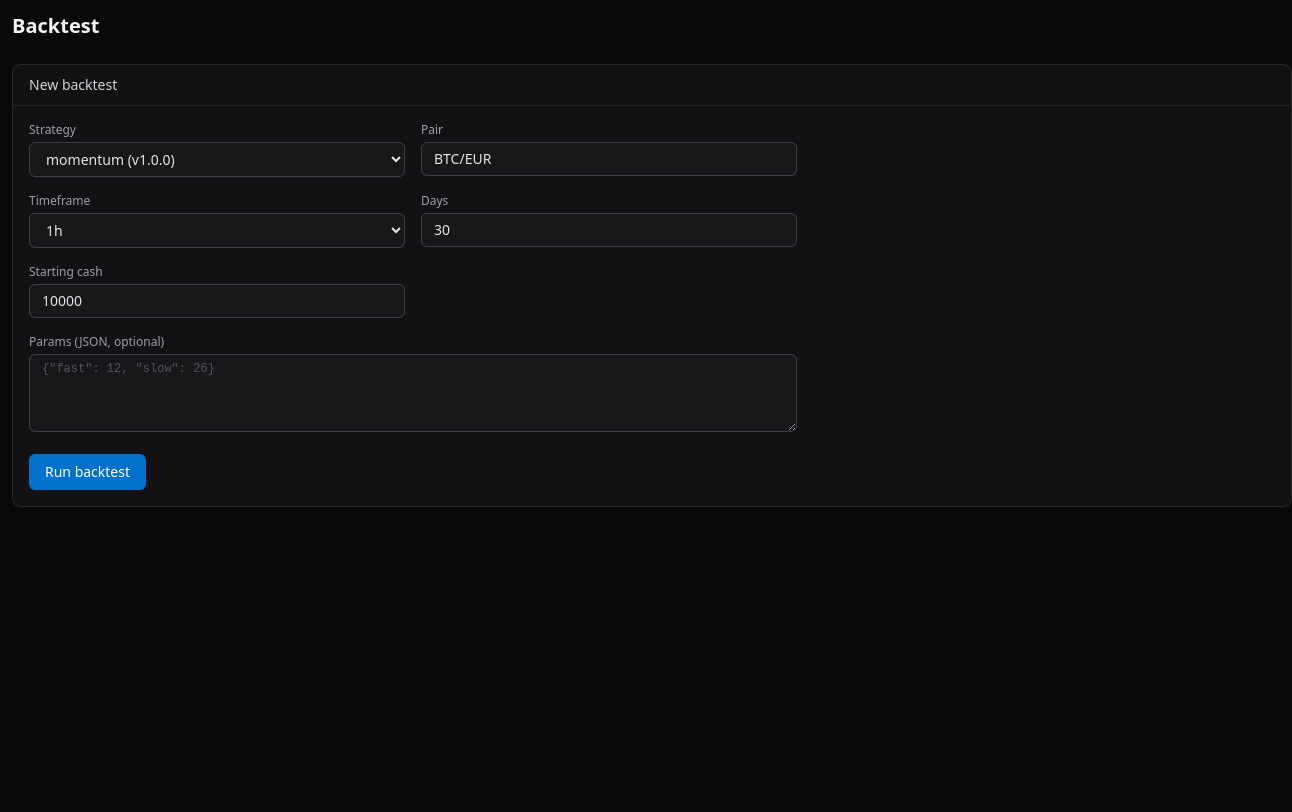
Test case: BacktestPage › shows a job-lost error instead of polling forever when the job 404s
Click the button "Run backtest" at [88, 472], box x1=29 y1=454 x2=146 y2=490
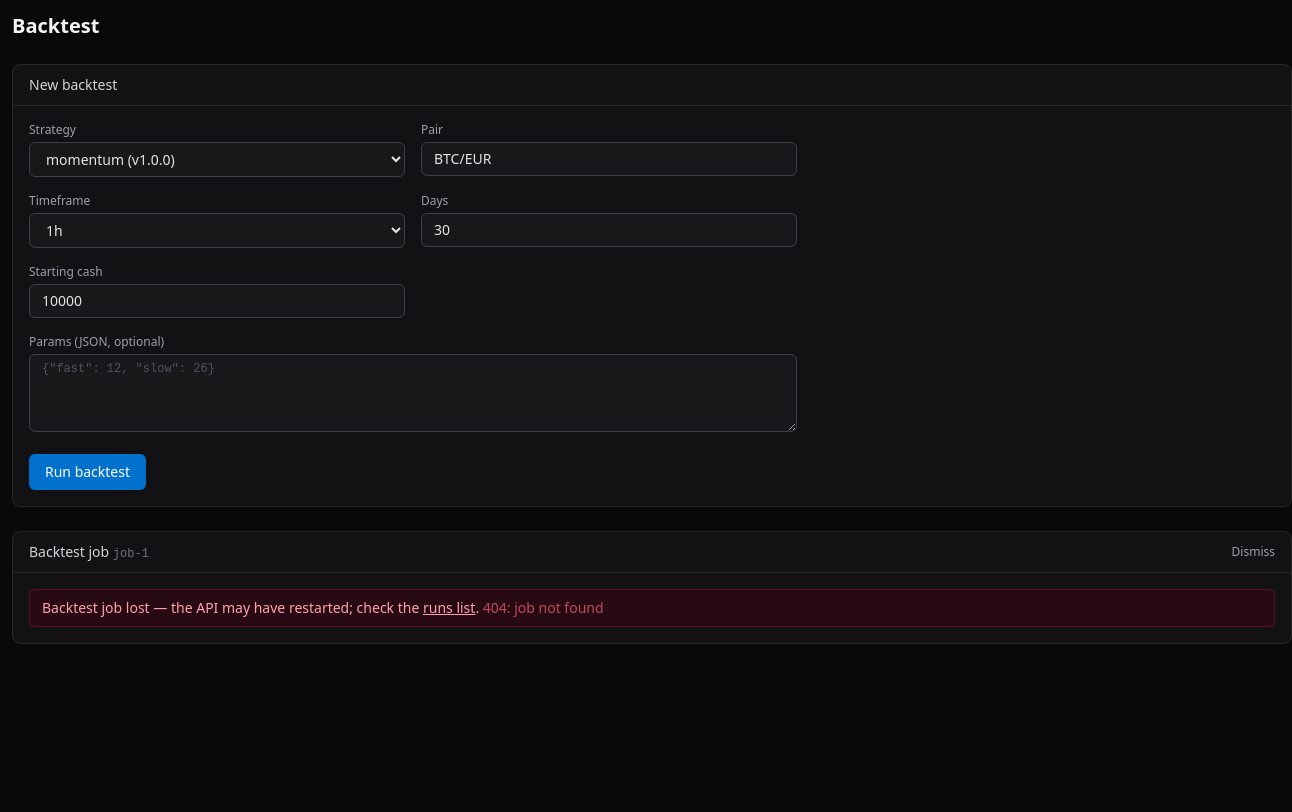
expect the text "Backtest job lost" is shown: met, box x1=42 y1=598 x2=419 y2=617
